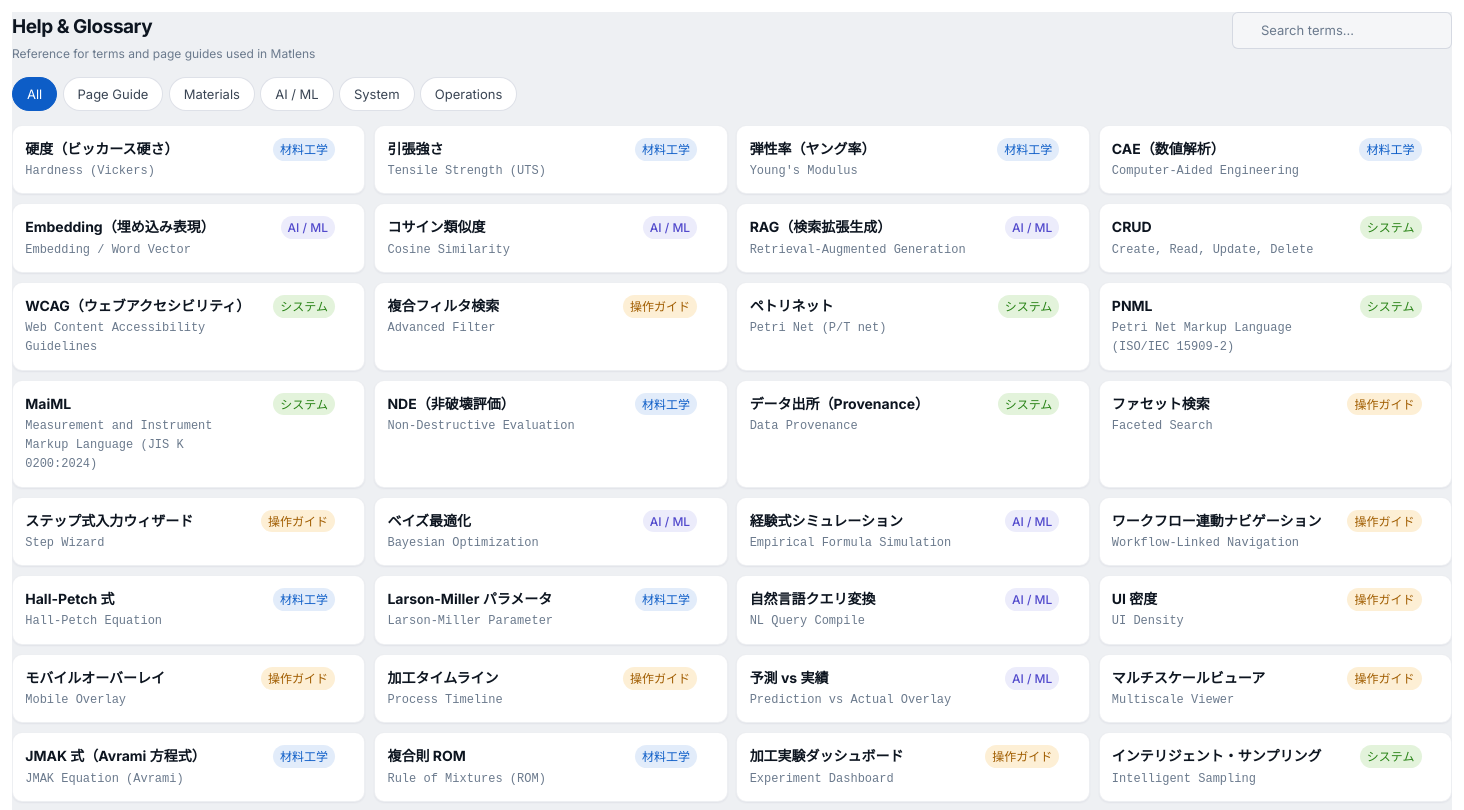
Test case: HelpPage › renders English labels when lang is switched to en
Click the tab "Page Guide".
click(113, 94)  # box left=62, top=77, right=163, bottom=111
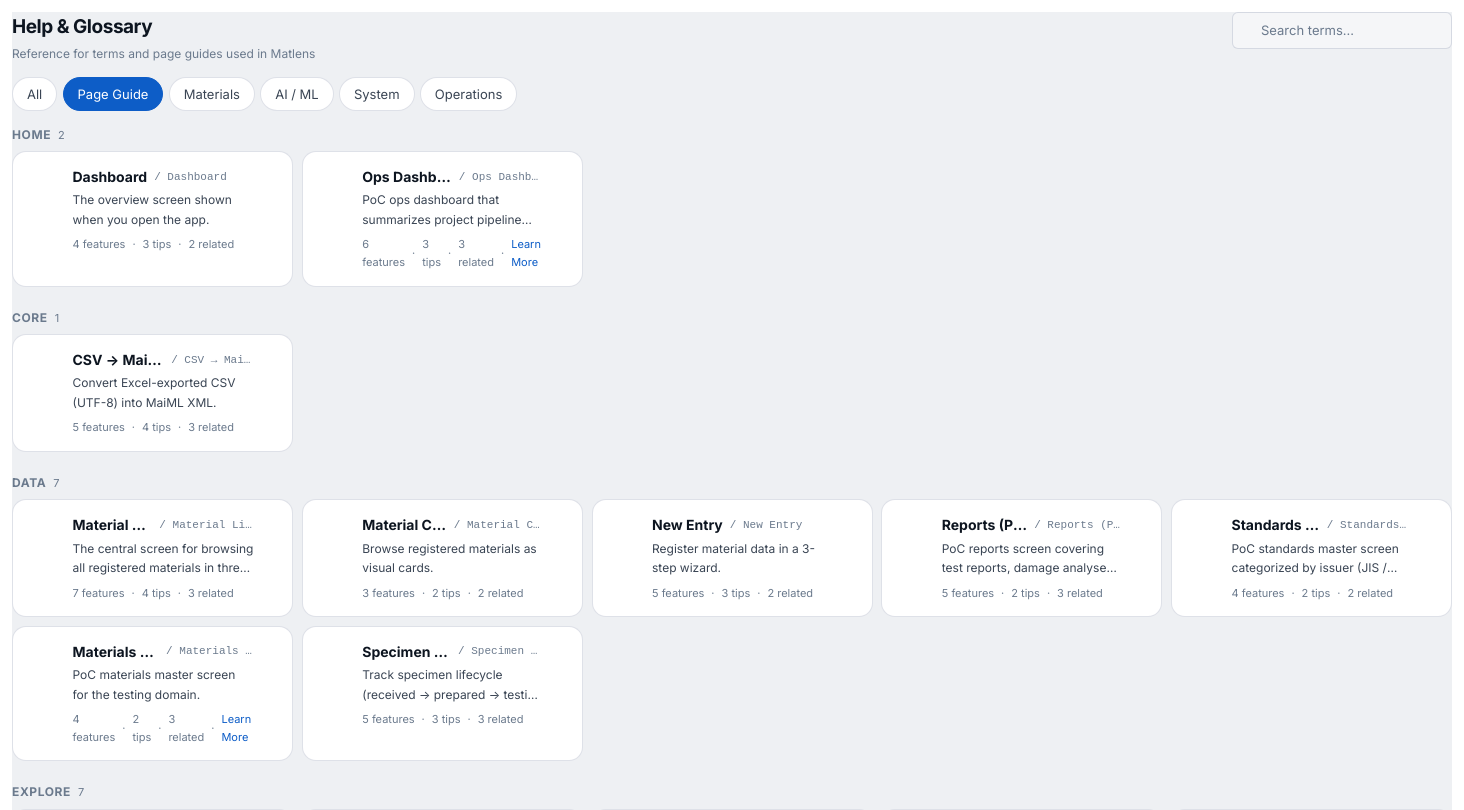
Click the button that starts with "Dashboard".
click(152, 210)  # box left=13, top=152, right=292, bottom=268
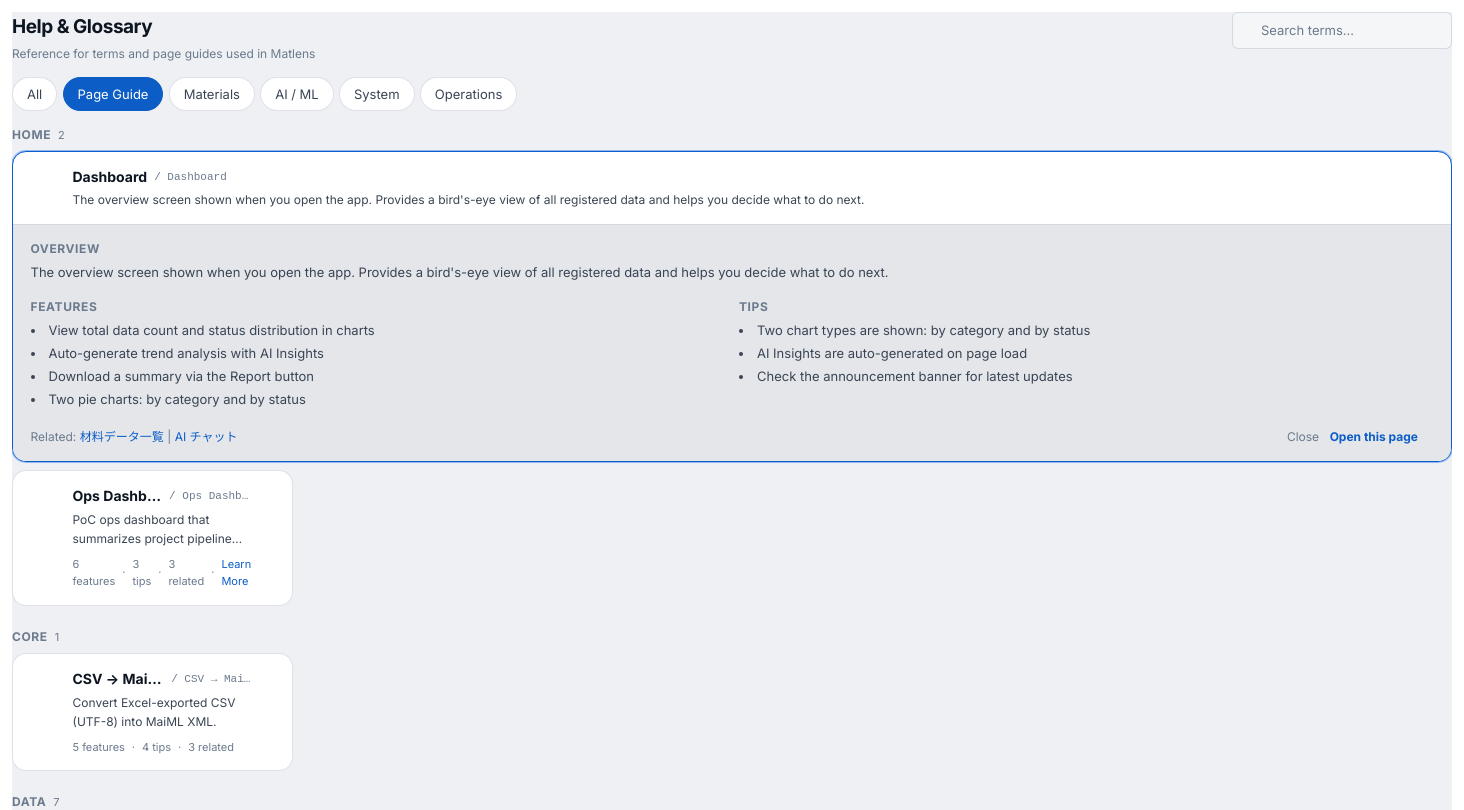
Now the text "Features" is shown, box left=30, top=299, right=97, bottom=314
Now the text "Tips" is shown, box left=739, top=299, right=768, bottom=314
Now the text "Overview" is shown, box left=30, top=241, right=100, bottom=256
